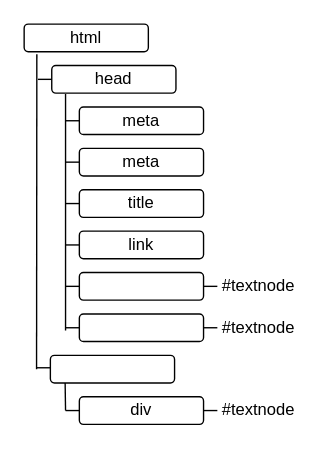
Image size: 319x449. Some labels were removed from this diagram. The shapes that lost their labels are listed below. From the top down, each one's centre as x and y in pixels, then its label:
At [141,285]: "style".
At [141,327]: "script".
At [112,368]: "body".
